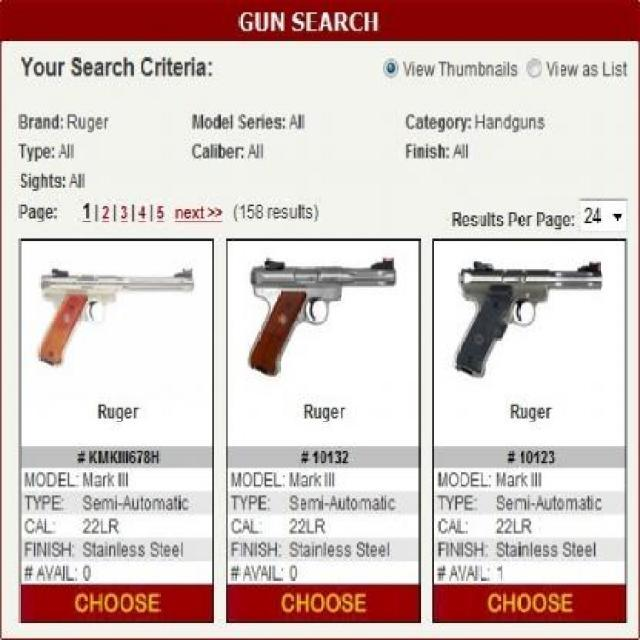Pistol: (245, 258, 398, 376), (452, 262, 606, 376), (35, 266, 196, 366)
